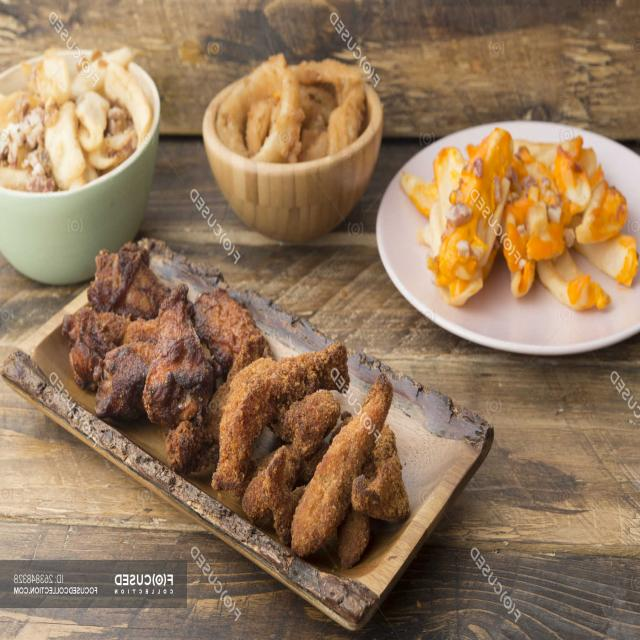Chicken Wings: (51, 243, 418, 567)
French Fries: (392, 102, 632, 335)
Onion Rings: (203, 49, 383, 188)
